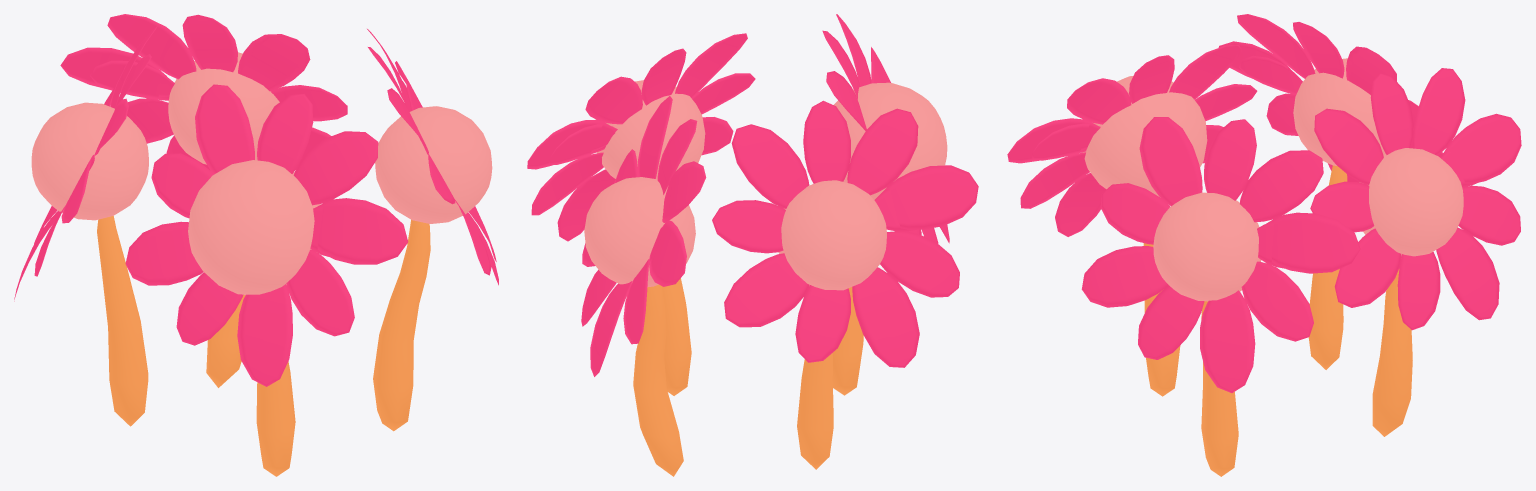
File: flower.glb
The picture shows the model from 3 angles, left to right: view 1: azimuth 30°, elevation 25°; view 2: azimuth 150°, elevation 25°; view 3: azimuth 270°, elevation 25°; orthographic projection. The views are drawn at different scales.
Parts seen in each view (by area): view 1: flower_group; view 2: flower_group; view 3: flower_group.
Boxes of the visible parts, x1,y1,x2,y2 form: flower_group: [14, 14, 498, 476]; flower_group: [527, 14, 978, 476]; flower_group: [1007, 14, 1521, 476].
Bounding box in the file's own units: 2.04 × 1.75 × 2.23.
